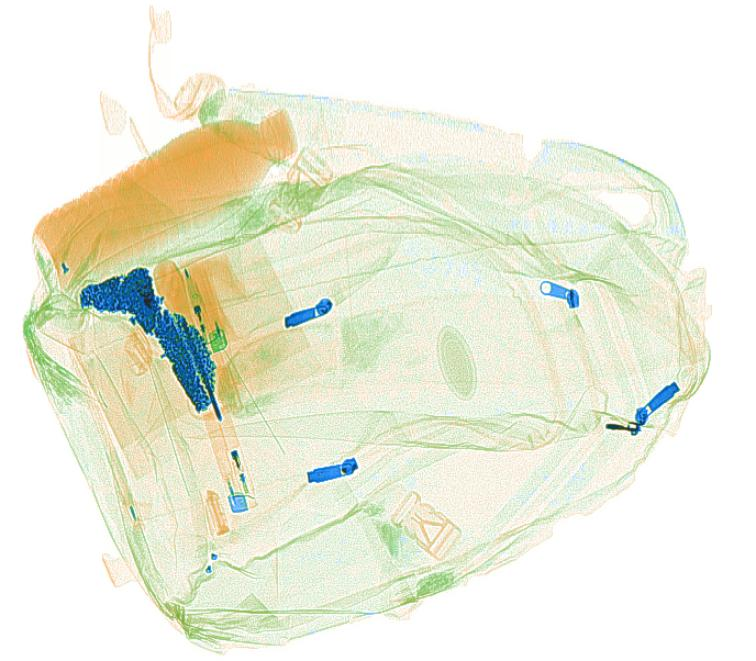lighter: (200, 403, 259, 514), (177, 255, 228, 355)
